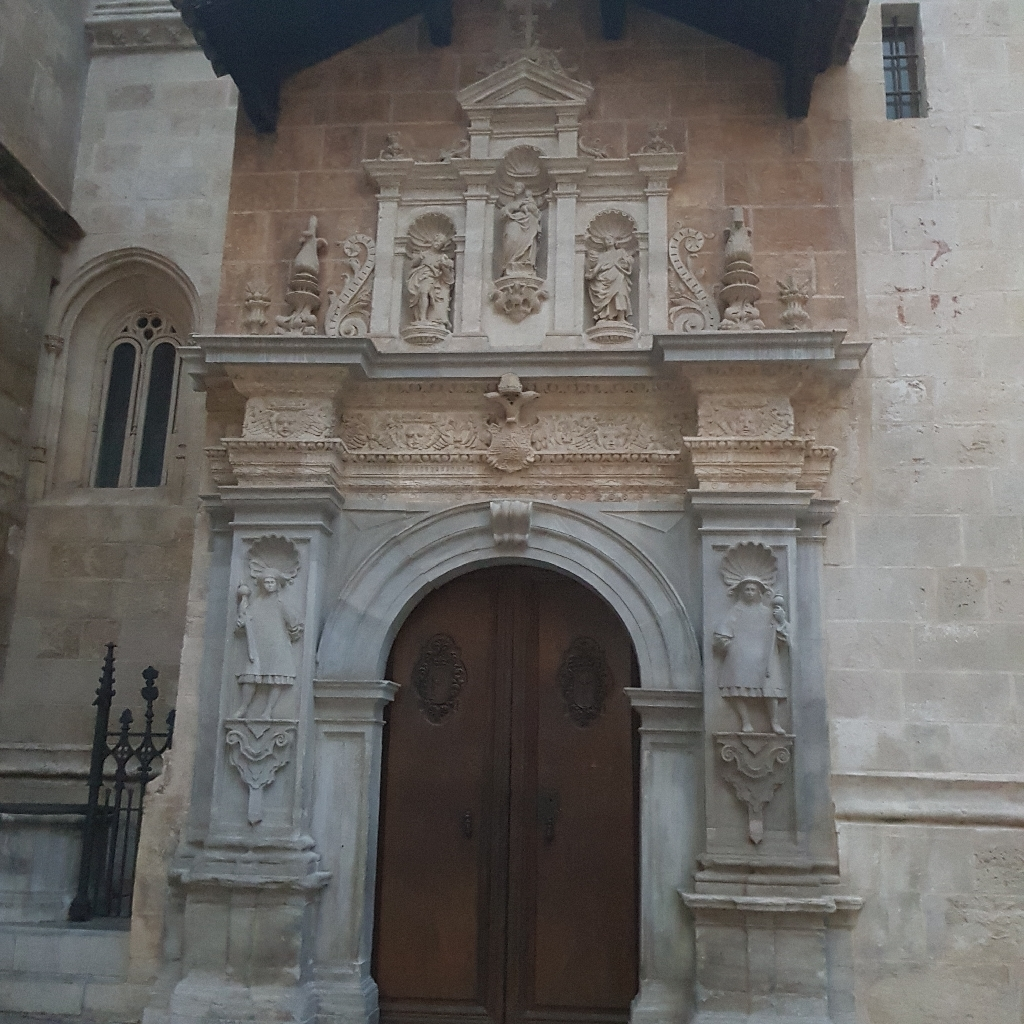arco-apuntado: (52, 244, 202, 369)
arco-medio-punto: (365, 544, 658, 747)
fronton: (451, 57, 599, 115)
